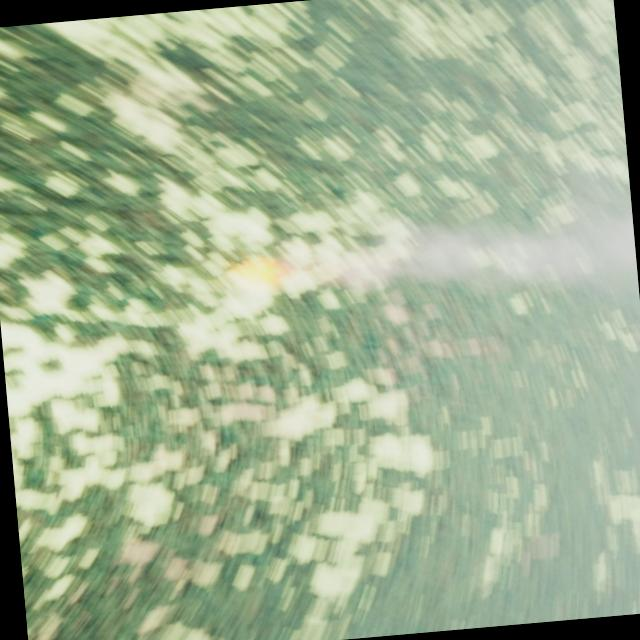fire: (228, 252, 294, 292)
smoke: (310, 204, 638, 310)
